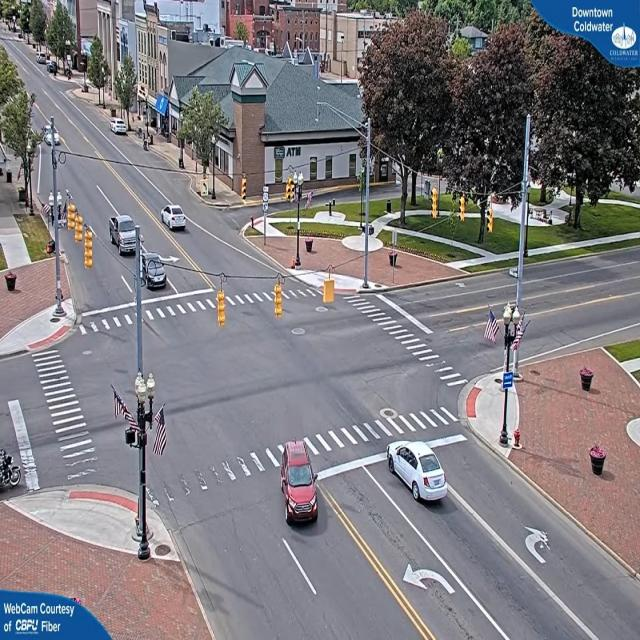car: (390, 442, 449, 503), (279, 444, 319, 523), (110, 216, 142, 254), (142, 253, 169, 289), (162, 206, 189, 233), (111, 119, 129, 136)
